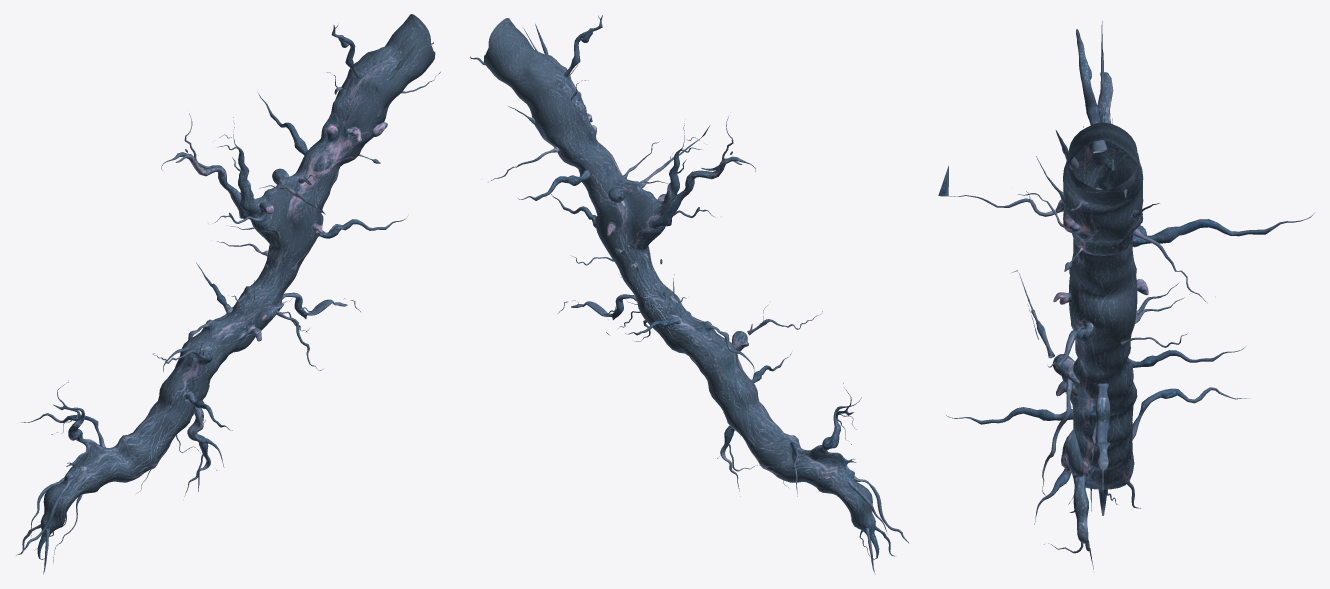
File: Filament.glb
3 views of the same model, side by side, from view 1: azimuth 30°, elevation 25°; view 2: azimuth 150°, elevation 25°; view 3: azimuth 270°, elevation 25° (orthographic). The views are drawn at different scales.
Visible parts, largest first — view 1: tripo_node_89254180-8d8e-496e-a005-4d72f9389b57; view 2: tripo_node_89254180-8d8e-496e-a005-4d72f9389b57; view 3: tripo_node_89254180-8d8e-496e-a005-4d72f9389b57.
Part boxes in pixels (x1,y1,x2,y2): tripo_node_89254180-8d8e-496e-a005-4d72f9389b57: (16,14,440,574); tripo_node_89254180-8d8e-496e-a005-4d72f9389b57: (470,15,909,574); tripo_node_89254180-8d8e-496e-a005-4d72f9389b57: (938,21,1314,569).
Size of the model in its own units: 0.9399 by 0.9995 by 0.4937.
Materials: 1 (1 with a texture image).
